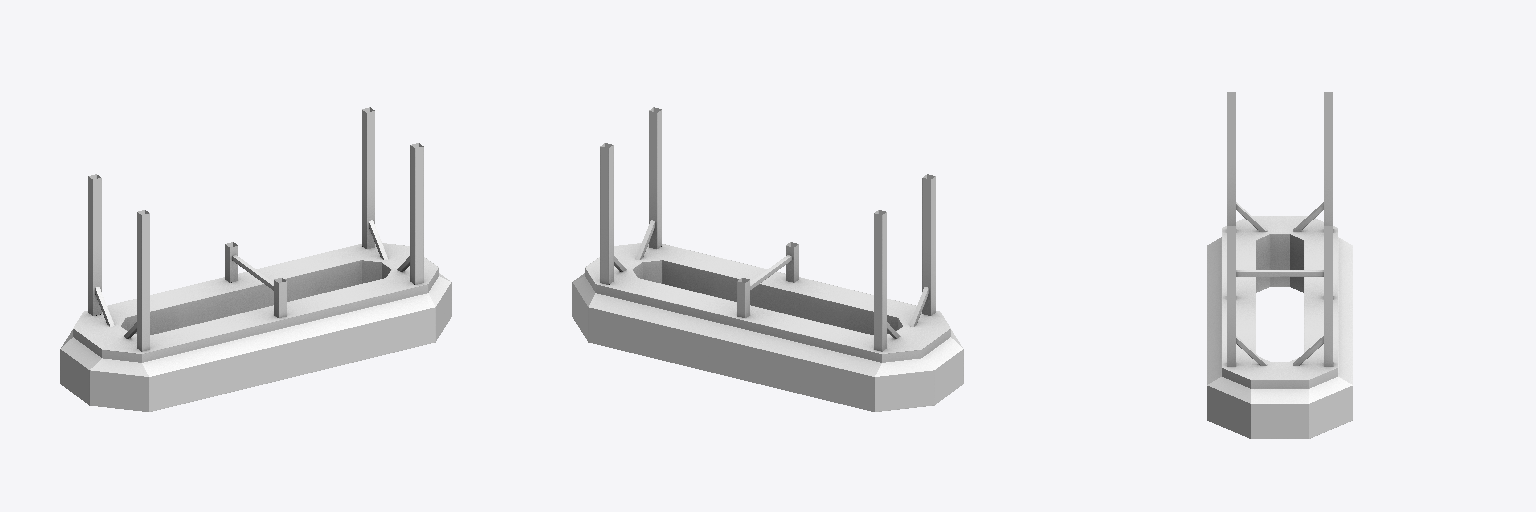
3 views of the same model, side by side, from view 1: azimuth 30°, elevation 25°; view 2: azimuth 150°, elevation 25°; view 3: azimuth 270°, elevation 25° (orthographic).
Parts seen in each view (by area): view 1: Briefing_Room_Center_Light_LP_Frame_Export; view 2: Briefing_Room_Center_Light_LP_Frame_Export; view 3: Briefing_Room_Center_Light_LP_Frame_Export.
Part boxes in pixels (left/top/right/bottom): Briefing_Room_Center_Light_LP_Frame_Export: left=60, top=107, right=451, bottom=411; Briefing_Room_Center_Light_LP_Frame_Export: left=572, top=107, right=963, bottom=411; Briefing_Room_Center_Light_LP_Frame_Export: left=1207, top=92, right=1352, bottom=438.
Bounding box in the file's own units: 52.43 × 26.21 × 18.29.
2 materials, 2 textured.